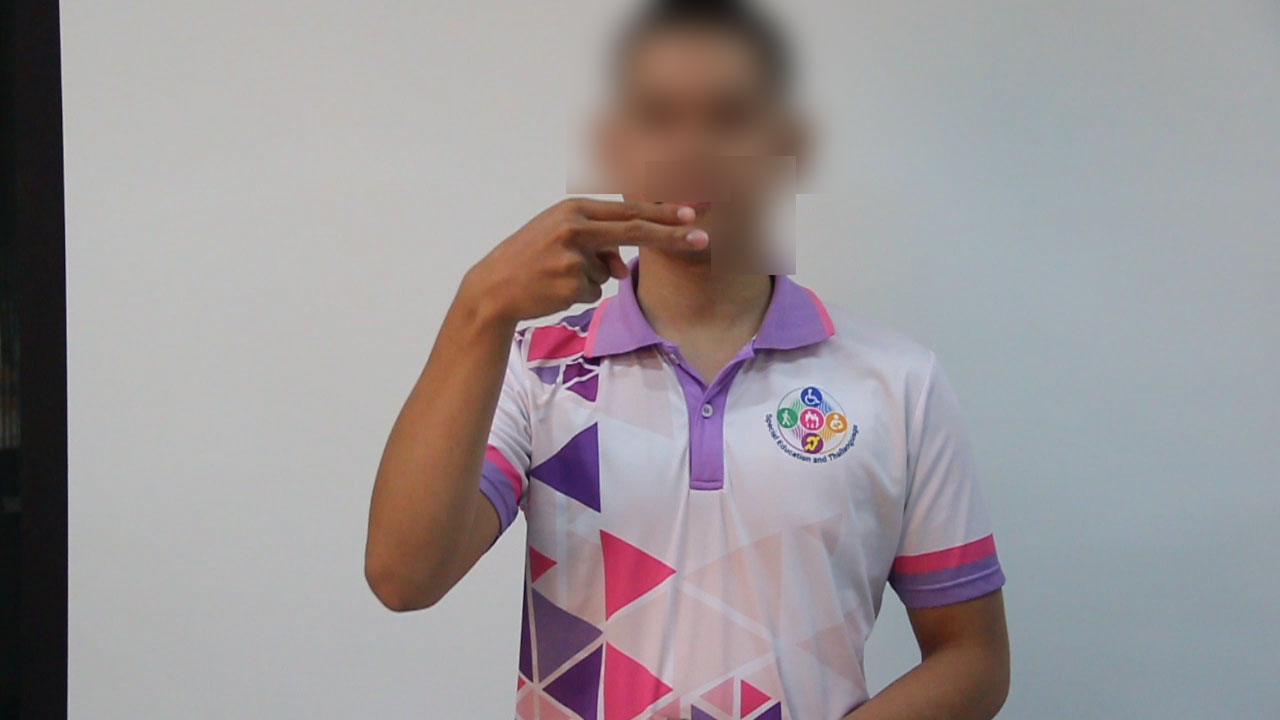hor: (438, 186, 721, 328)
